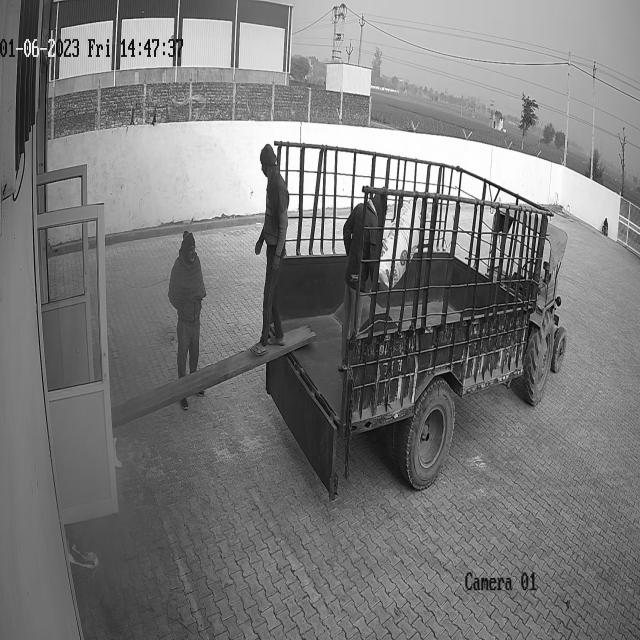sack: (378, 199, 421, 289)
